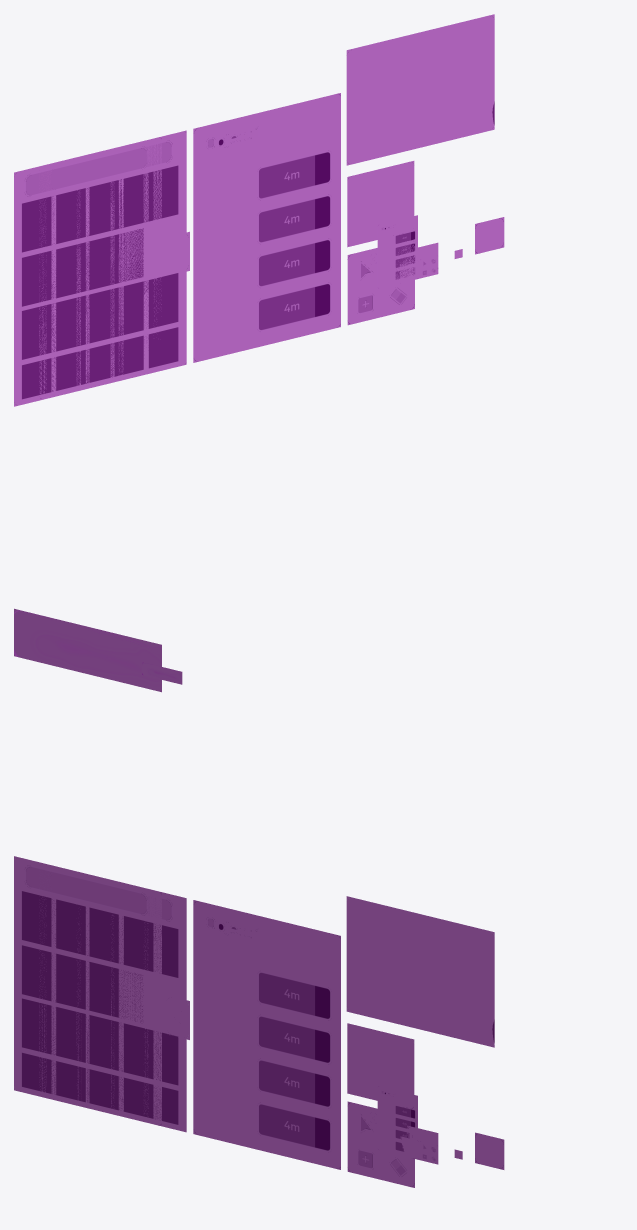
File: controls.glb
3 views of the same model, one above another, from view 1: azimuth 30°, elevation 25°; view 2: azimuth 150°, elevation 25°; view 3: azimuth 330°, elevation 25° (orthographic).
Visible parts, largest first — view 1: base, gui-properties-ext, gui-properties; view 2: base; view 3: base, gui-properties-ext, gui-properties, gui-add.
Part boxes in pixels (x1,y1,x2,y2): base: [14, 14, 504, 406]; gui-properties-ext: [39, 130, 186, 399]; gui-properties: [370, 215, 462, 288]; base: [14, 608, 161, 692]; base: [14, 856, 504, 1187]; gui-properties-ext: [39, 864, 186, 1132]; gui-properties: [370, 1086, 434, 1156]; gui-add: [400, 1136, 437, 1164].
Bounding box in the file's own units: 1.81 × 0.783 × 1.27e-07.
Materials: 1 (1 with a texture image).
